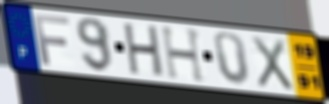0: (213, 30, 252, 88)
9: (75, 16, 114, 75)
F: (32, 13, 72, 68)
H: (158, 25, 208, 85), (123, 22, 165, 80)
X: (249, 34, 296, 93)
